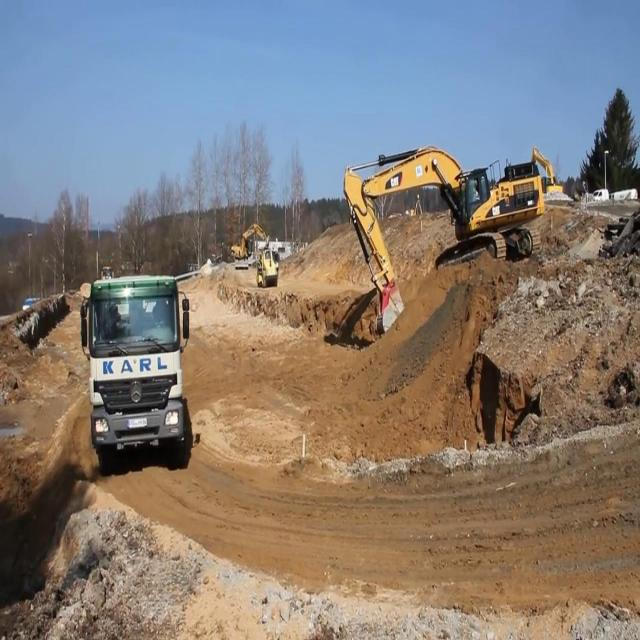Dump Truck: (79, 273, 189, 475), (270, 246, 280, 275)
Excavator: (342, 145, 546, 332), (230, 223, 269, 269), (531, 146, 563, 194)
Roller: (255, 247, 278, 287)
